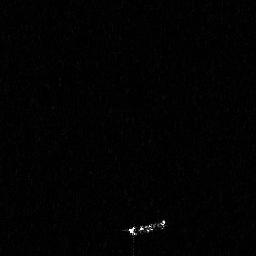ship: (123, 217, 168, 240)
